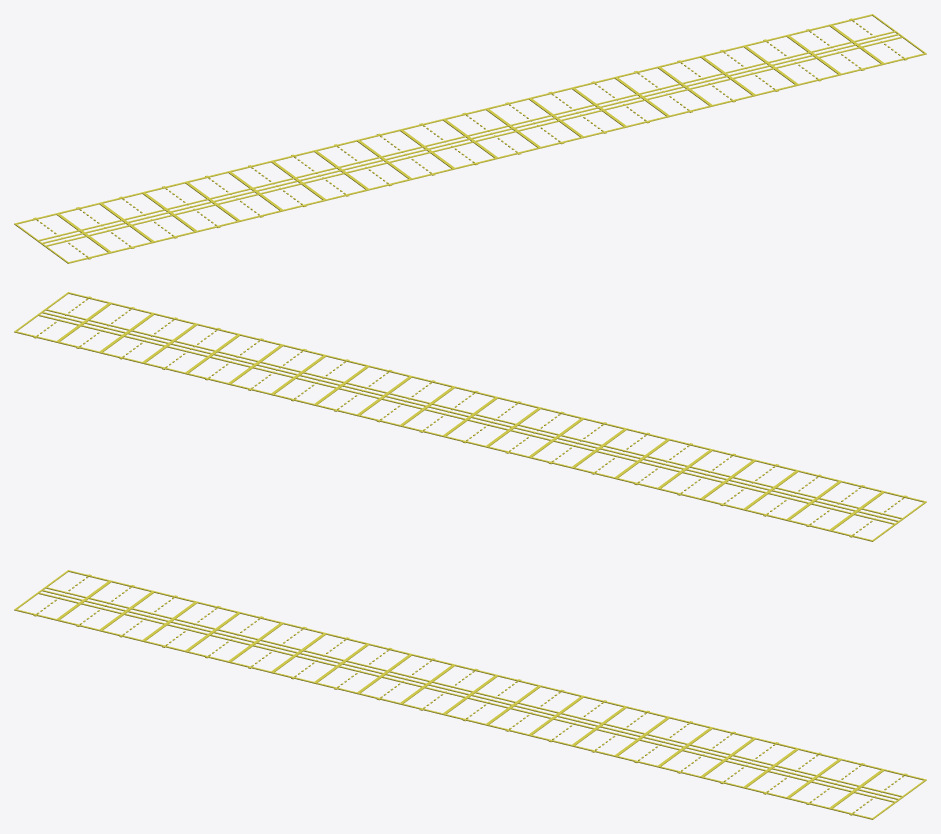
Rendered from CYLines.fbx.
3 views of the same model, one above another, from view 1: azimuth 30°, elevation 25°; view 2: azimuth 150°, elevation 25°; view 3: azimuth 330°, elevation 25° (orthographic).
Parts seen in each view (by area): view 1: Cube.001; view 2: Cube.001; view 3: Cube.001.
Boxes of the visible parts, x1=… form: Cube.001: x1=14, y1=14, x2=926, y2=263; Cube.001: x1=14, y1=292, x2=926, y2=541; Cube.001: x1=14, y1=570, x2=926, y2=819.
Size of the model in its own units: 163 by 0.1423 by 18.32.
